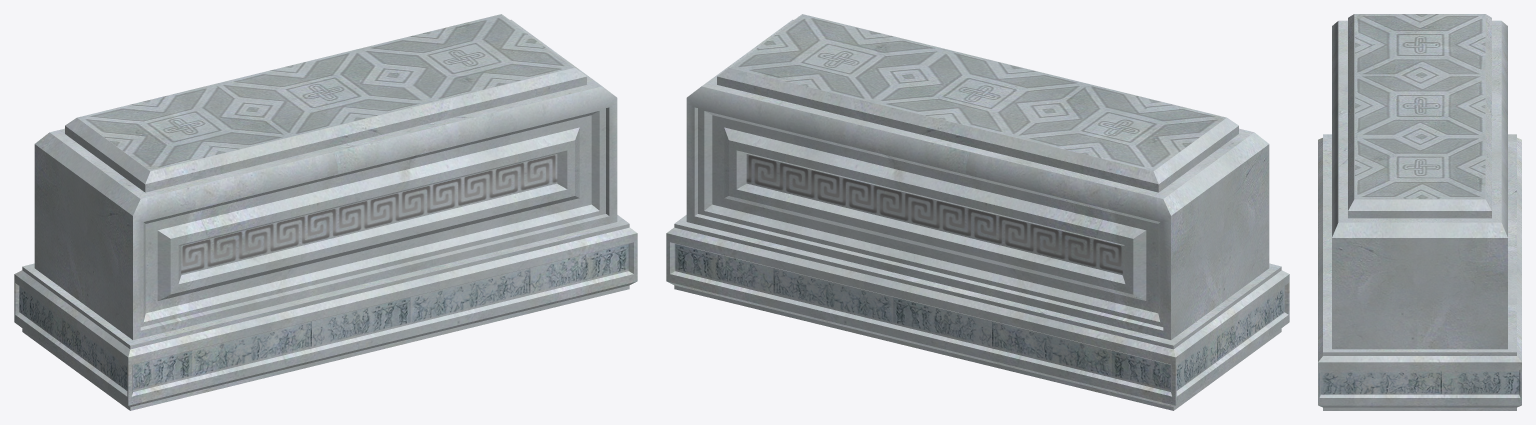
Rendered from Building_Part10.fbx.
3 views of the same model, side by side, from view 1: azimuth 30°, elevation 25°; view 2: azimuth 150°, elevation 25°; view 3: azimuth 270°, elevation 25° (orthographic). The views are drawn at different scales.
Visible parts, largest first — view 1: Building_Part10; view 2: Building_Part10; view 3: Building_Part10.
Boxes of the visible parts, bbox=[...] form: Building_Part10: bbox=[14, 14, 637, 410]; Building_Part10: bbox=[666, 14, 1289, 410]; Building_Part10: bbox=[1318, 14, 1521, 410].
Bounding box in the file's own units: 8.16 × 3.33 × 3.16.
